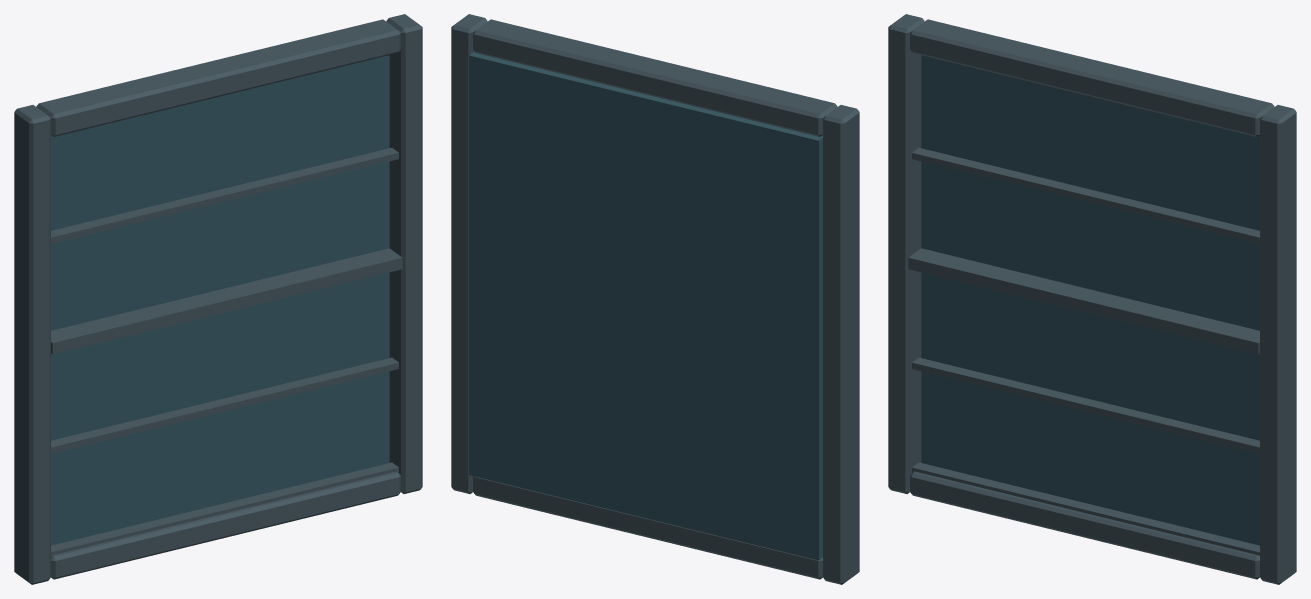
Rendered from window_20.glb.
3 renders of one model, left to right at view 1: azimuth 30°, elevation 25°; view 2: azimuth 150°, elevation 25°; view 3: azimuth 330°, elevation 25°, orthographic.
Visible parts, largest first — view 1: window_20; view 2: window_20; view 3: window_20.
Part boxes in pixels (x1=…): window_20: x1=14, y1=14, x2=422, y2=584; window_20: x1=451, y1=14, x2=859, y2=584; window_20: x1=888, y1=14, x2=1296, y2=584.
Bounding box in the file's own units: 1.62 × 1.83 × 0.1475.
